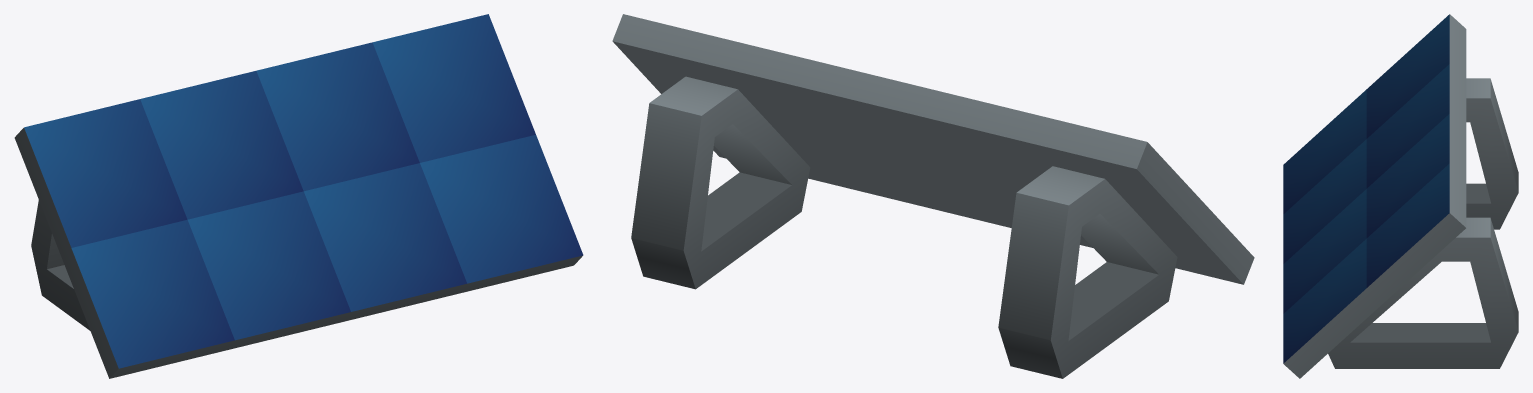
Rendered from space-solarpanel.glb.
3 renders of one model, left to right at view 1: azimuth 30°, elevation 25°; view 2: azimuth 150°, elevation 25°; view 3: azimuth 270°, elevation 25°, orthographic. The views are drawn at different scales.
Visible parts, largest first — view 1: solarpanel; view 2: solarpanel; view 3: solarpanel.
Boxes of the visible parts, x1=… form: solarpanel: x1=14, y1=14, x2=583, y2=378; solarpanel: x1=612, y1=14, x2=1254, y2=378; solarpanel: x1=1283, y1=14, x2=1518, y2=378.
Bounding box in the file's own units: 0.9 × 0.3709 × 0.45.
